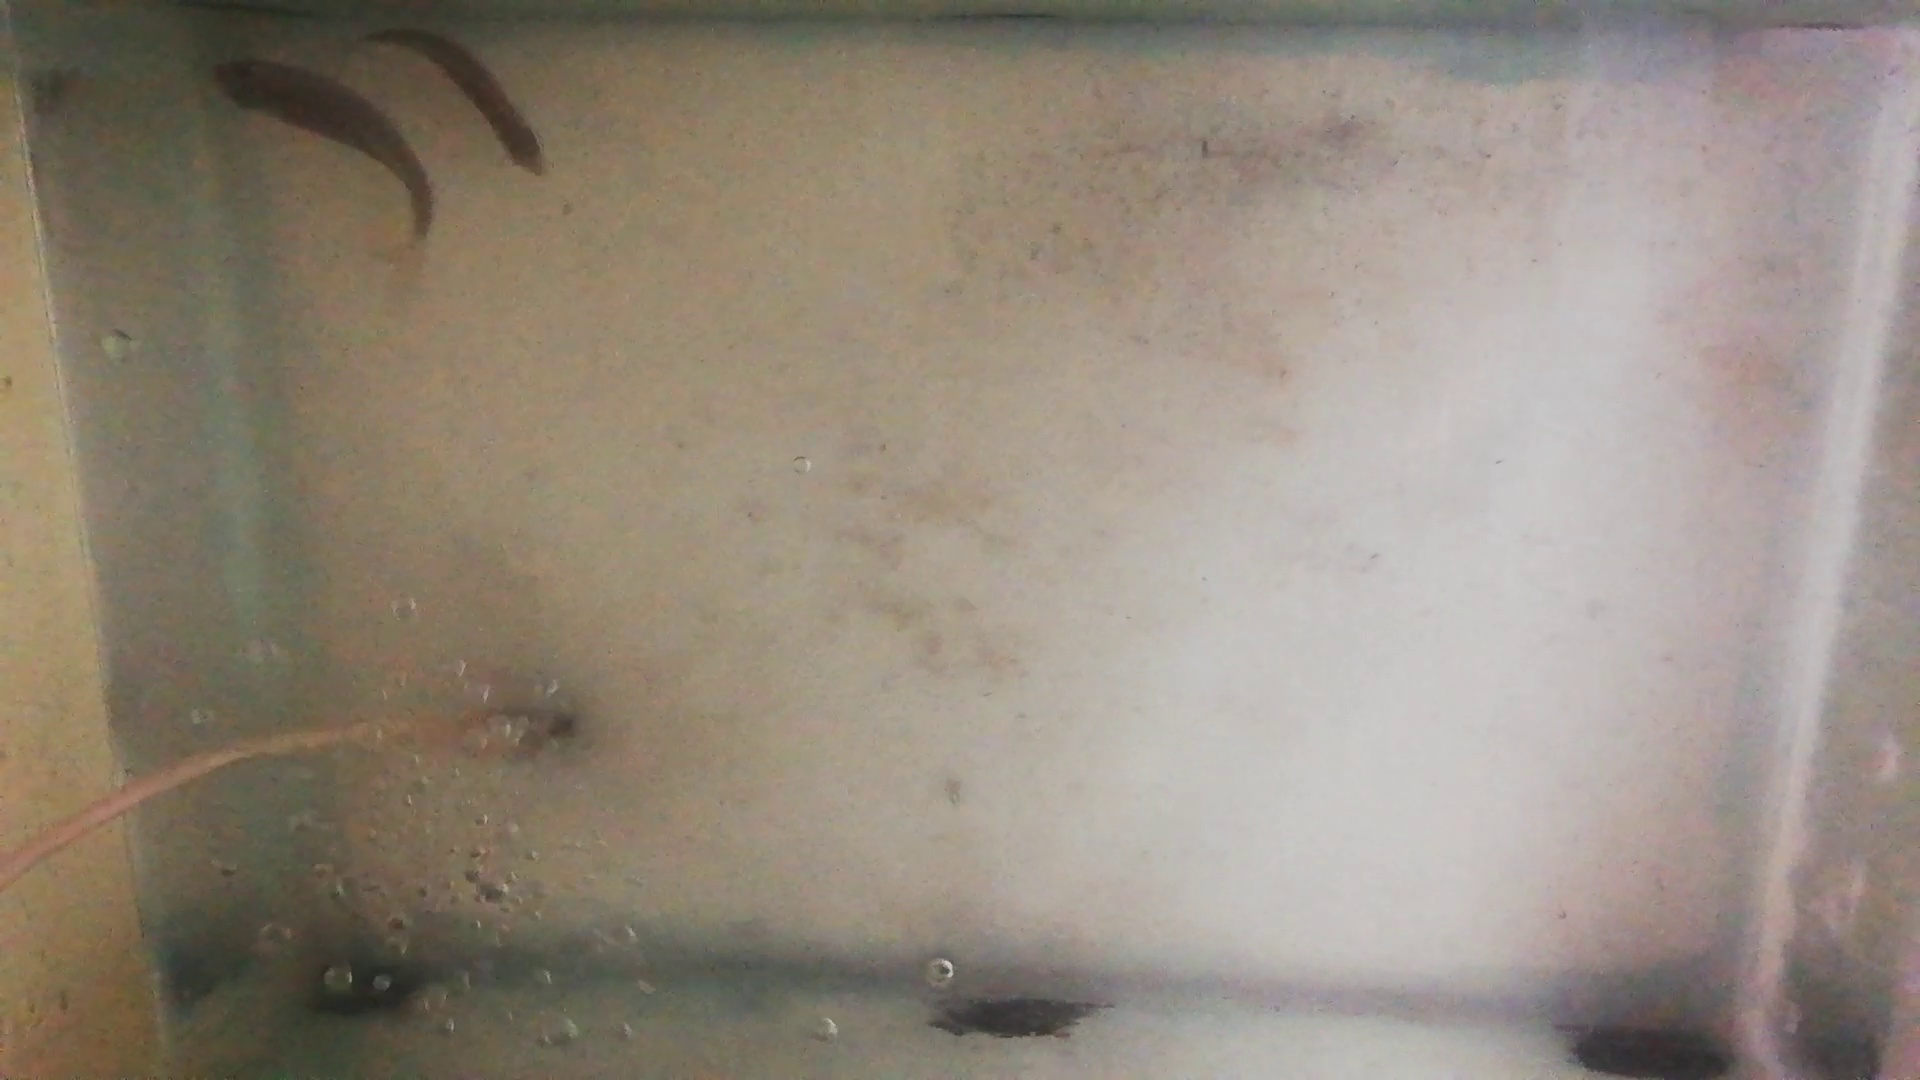fish: (204, 59, 436, 236), (367, 22, 545, 177)
